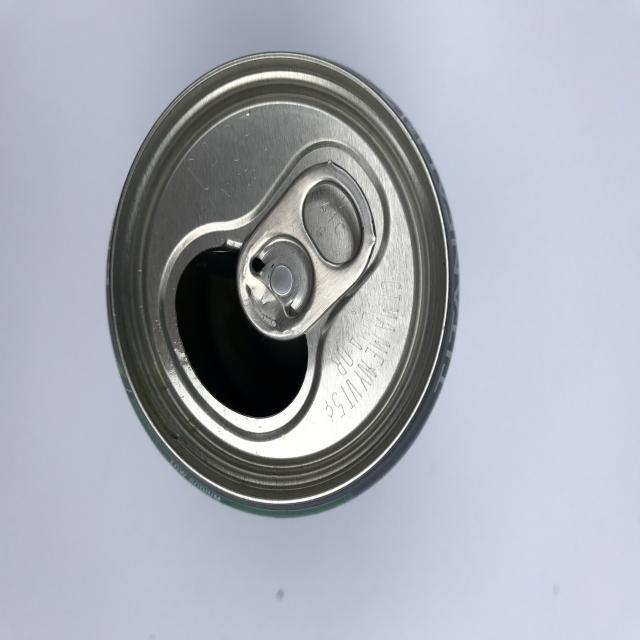metal: (104, 49, 460, 518)
